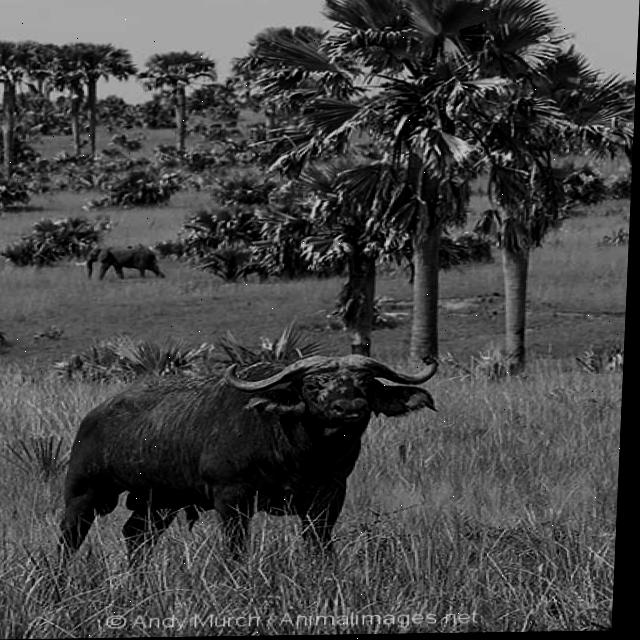Buffalo: (49, 352, 443, 584)
